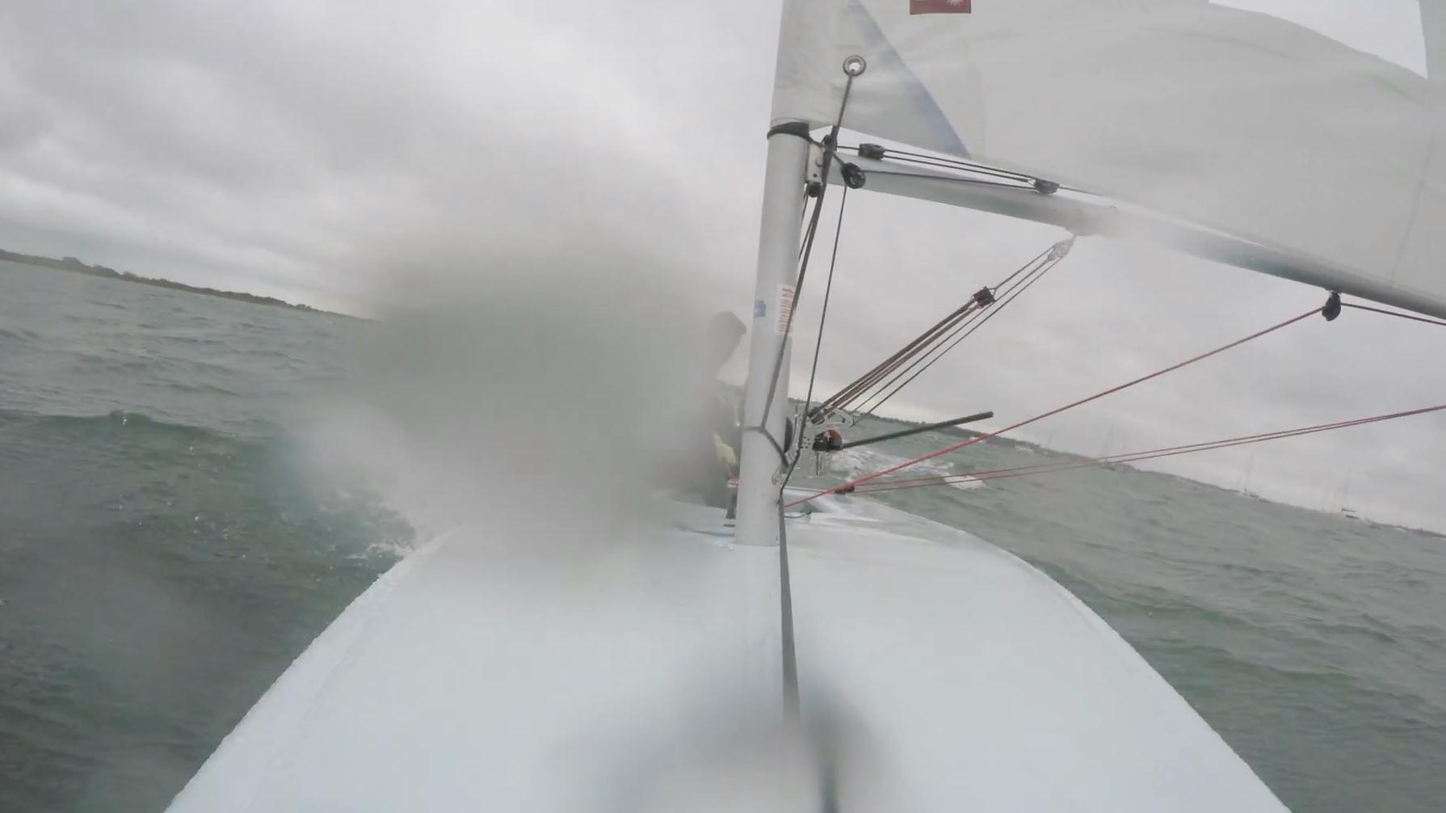boat: (163, 0, 1446, 813)
land: (0, 251, 339, 320)
person: (624, 313, 753, 516)
sea: (0, 257, 678, 813), (786, 417, 1446, 813)
sky: (0, 0, 784, 385), (784, 175, 1446, 538)
